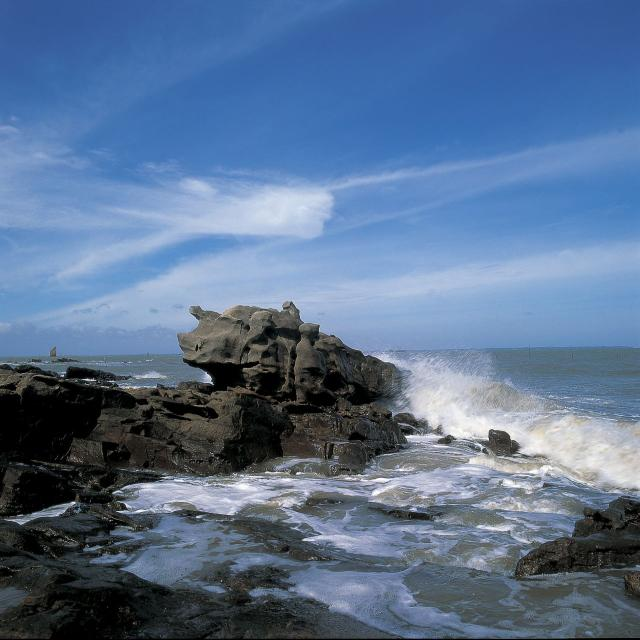reef: (174, 308, 512, 503)
